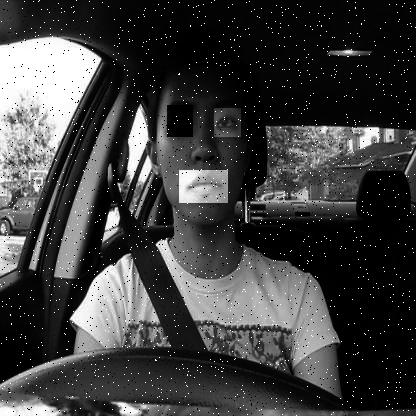seatbelt: (128, 32, 266, 346)
